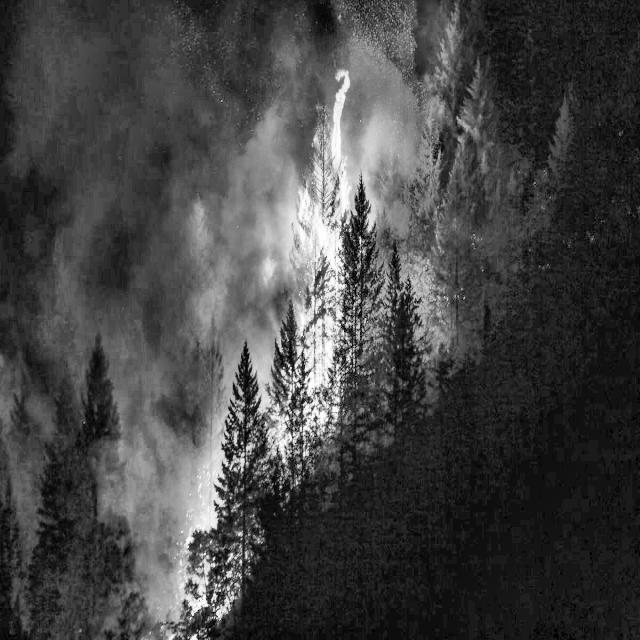fire: (292, 37, 392, 470), (144, 410, 284, 607)
